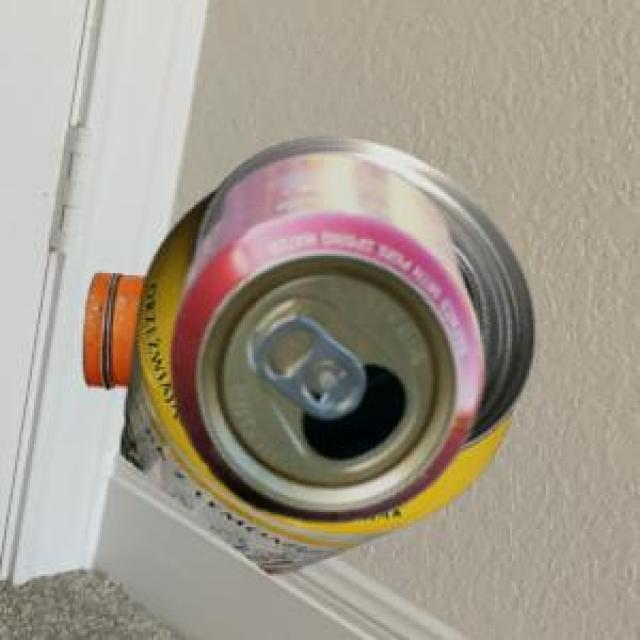Can: (118, 135, 532, 571), (167, 150, 481, 519), (80, 270, 144, 385)
